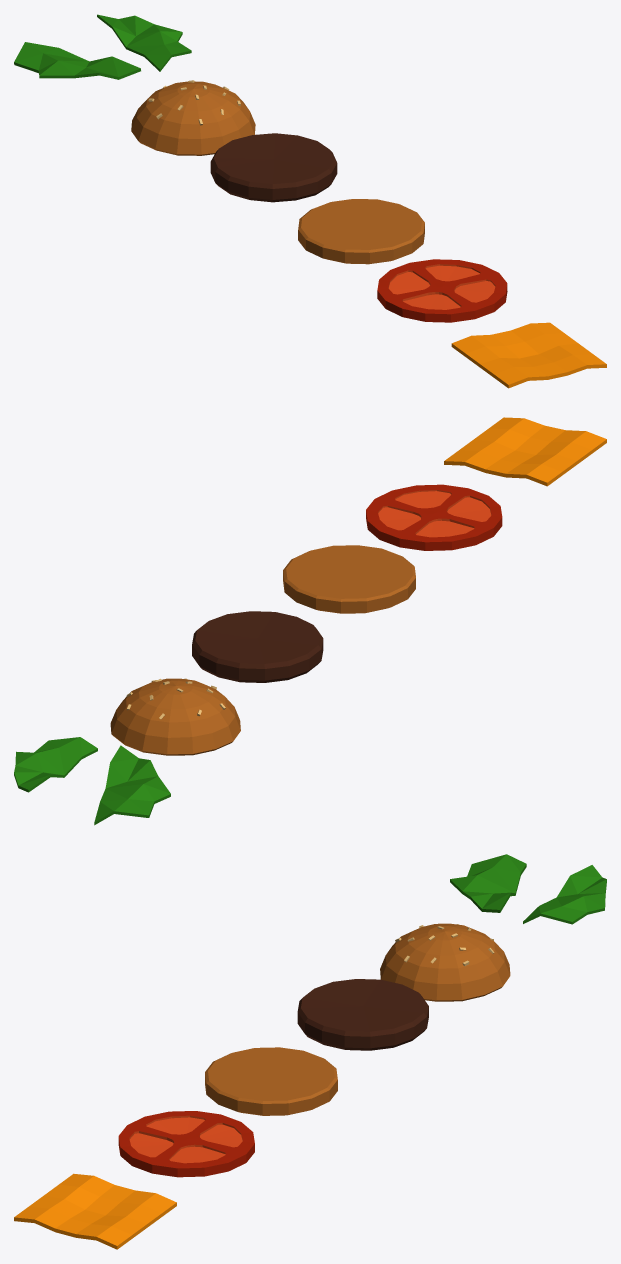
File: Burger_Lowpoly.fbx
The picture shows the model from 3 angles, top to bottom: view 1: azimuth 30°, elevation 25°; view 2: azimuth 150°, elevation 25°; view 3: azimuth 330°, elevation 25°; orthographic projection. The views are drawn at different scales.
Visible parts, largest first — view 1: Meat.001, BreadTop.001, BreadBottom.001, Tomato.001, Cheeze.001, Lettuce2.001, Lettuce.001; view 2: BreadTop.001, Meat.001, BreadBottom.001, Tomato.001, Cheeze.001, Lettuce2.001, Lettuce.001; view 3: Meat.001, BreadTop.001, BreadBottom.001, Tomato.001, Cheeze.001, Lettuce2.001, Lettuce.001.
Part boxes in pixels (x1=…): Meat.001: x1=210, y1=133, x2=337, y2=202; BreadTop.001: x1=131, y1=80, x2=255, y2=155; BreadBottom.001: x1=298, y1=199, x2=424, y2=264; Tomato.001: x1=377, y1=259, x2=507, y2=322; Cheeze.001: x1=451, y1=322, x2=606, y2=388; Lettuce2.001: x1=14, y1=42, x2=140, y2=79; Lettuce.001: x1=97, y1=14, x2=191, y2=71; BreadTop.001: x1=110, y1=678, x2=240, y2=755; Meat.001: x1=192, y1=611, x2=323, y2=682; BreadBottom.001: x1=283, y1=545, x2=415, y2=613; Tomato.001: x1=366, y1=484, x2=502, y2=550; Cheeze.001: x1=444, y1=417, x2=606, y2=486; Lettuce2.001: x1=94, y1=745, x2=170, y2=825; Lettuce.001: x1=14, y1=737, x2=97, y2=792; Meat.001: x1=297, y1=979, x2=428, y2=1050; BreadTop.001: x1=380, y1=923, x2=510, y2=1001; BreadBottom.001: x1=205, y1=1047, x2=337, y2=1115; Tomato.001: x1=118, y1=1111, x2=254, y2=1177; Cheeze.001: x1=14, y1=1173, x2=176, y2=1249; Lettuce2.001: x1=450, y1=854, x2=526, y2=912; Lettuce.001: x1=523, y1=865, x2=606, y2=924.
Size of the model in its own units: 190 by 51.96 by 1071.
